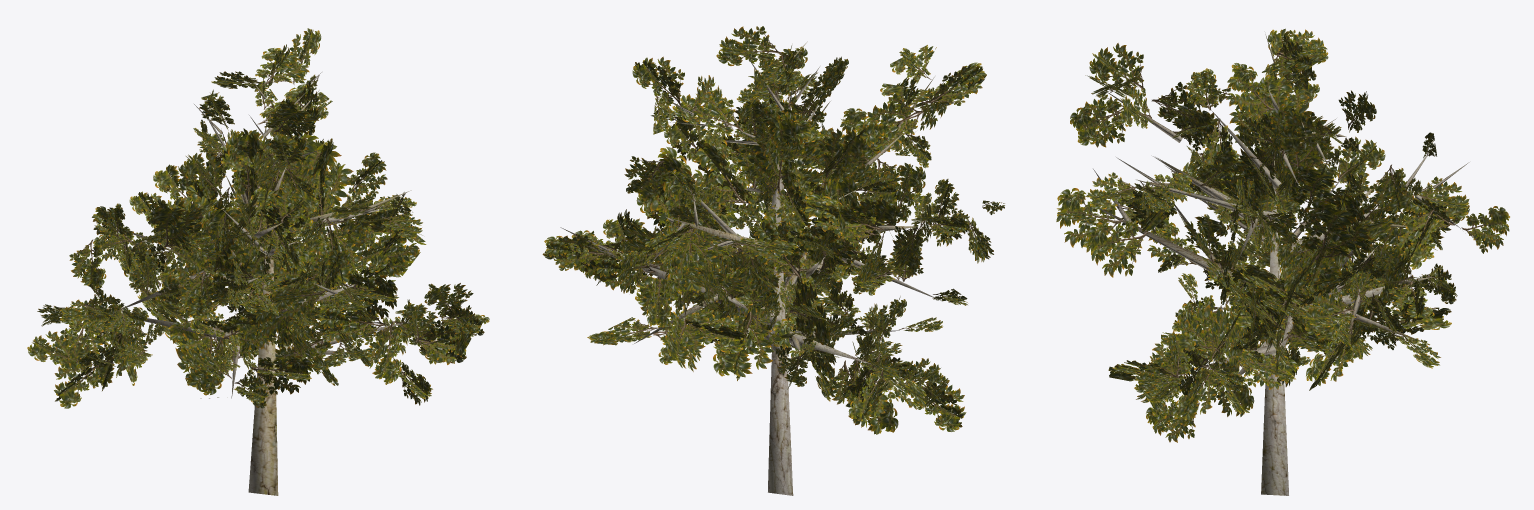
File: BigtreeLOD2.fbx
3 renders of one model, left to right at view 1: azimuth 30°, elevation 25°; view 2: azimuth 150°, elevation 25°; view 3: azimuth 270°, elevation 25°, orthographic. The views are drawn at different scales.
Parts seen in each view (by area): view 1: Bigtree.001; view 2: Bigtree.001; view 3: Bigtree.001.
Part boxes in pixels (box(x1,y1,x2,y2)): Bigtree.001: box(27, 28, 489, 495); Bigtree.001: box(542, 26, 1004, 495); Bigtree.001: box(1056, 28, 1509, 495).
Size of the model in its own units: 3473 by 3782 by 3424.
